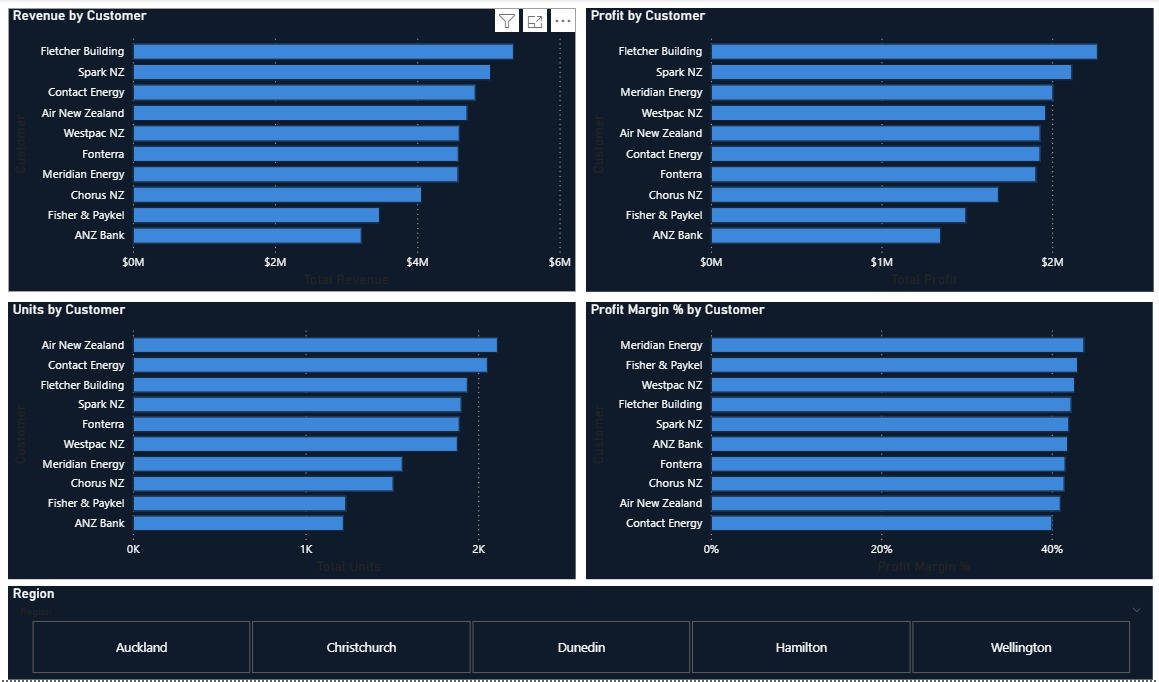

Layout of this report page (visuals, bound fields, positions):
{"tool":"powerbi","page":{"name":"Customer Analysis","canvas":[1280,720],"ordinal":1},"visuals":[{"type":"barChart","title":"Revenue by Customer","fields":{"Category":["Financial_Data.Customer"],"Y":["Financial_Data.Total Revenue"]},"box":[10,10,600,300],"z":0},{"type":"barChart","title":"Profit by Customer","fields":{"Category":["Financial_Data.Customer"],"Y":["Financial_Data.Total Profit"]},"box":[620,10,600,300],"z":1},{"type":"barChart","title":"Units by Customer","fields":{"Category":["Financial_Data.Customer"],"Y":["Financial_Data.Total Units"]},"box":[9.5,320.3,600.4,292.8],"z":2},{"type":"slicer","title":"Region","fields":{"Values":["Financial_Data.Region"]},"box":[9.5,620.4,1210.2,99.4],"z":4},{"type":"clusteredBarChart","fields":{"Category":["Financial_Data.Customer"],"Y":["Financial_Data.Profit Margin %"]},"box":[620.4,320.3,599.3,292.8],"z":5}]}

Visuals, with their boxes on the page's 1280x720 design canvas (x1, y1, x2, y2). These are canvas units, not pixel positions in the 1159x682 screenshot, which may show the page scaled, cropped or inside an application window:
"Revenue by Customer" barChart: {"left": 10, "top": 10, "right": 610, "bottom": 310}
"Profit by Customer" barChart: {"left": 620, "top": 10, "right": 1220, "bottom": 310}
"Units by Customer" barChart: {"left": 10, "top": 320, "right": 610, "bottom": 613}
"Region" slicer: {"left": 10, "top": 620, "right": 1220, "bottom": 720}
clusteredBarChart - Financial_Data.Customer x Financial_Data.Profit Margin %: {"left": 620, "top": 320, "right": 1220, "bottom": 613}
